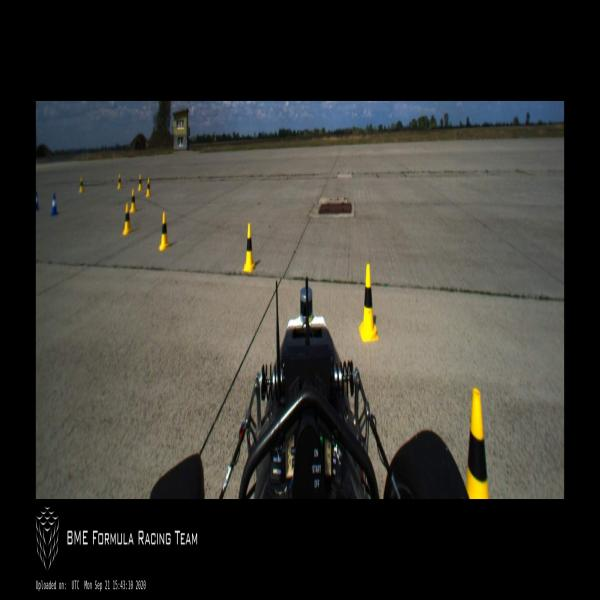blue_cone: (51, 194, 58, 216), (36, 190, 39, 210)
yellow_cone: (466, 388, 489, 499), (359, 263, 378, 343), (242, 223, 256, 272), (159, 212, 170, 250), (123, 203, 132, 235), (130, 190, 137, 212), (146, 178, 152, 198), (138, 174, 143, 192), (78, 178, 84, 193), (118, 174, 123, 189)
